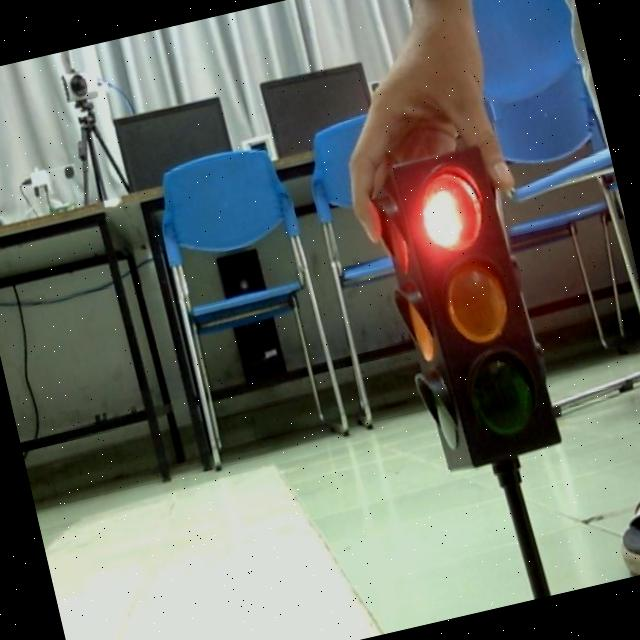red_light: (402, 148, 500, 262)
